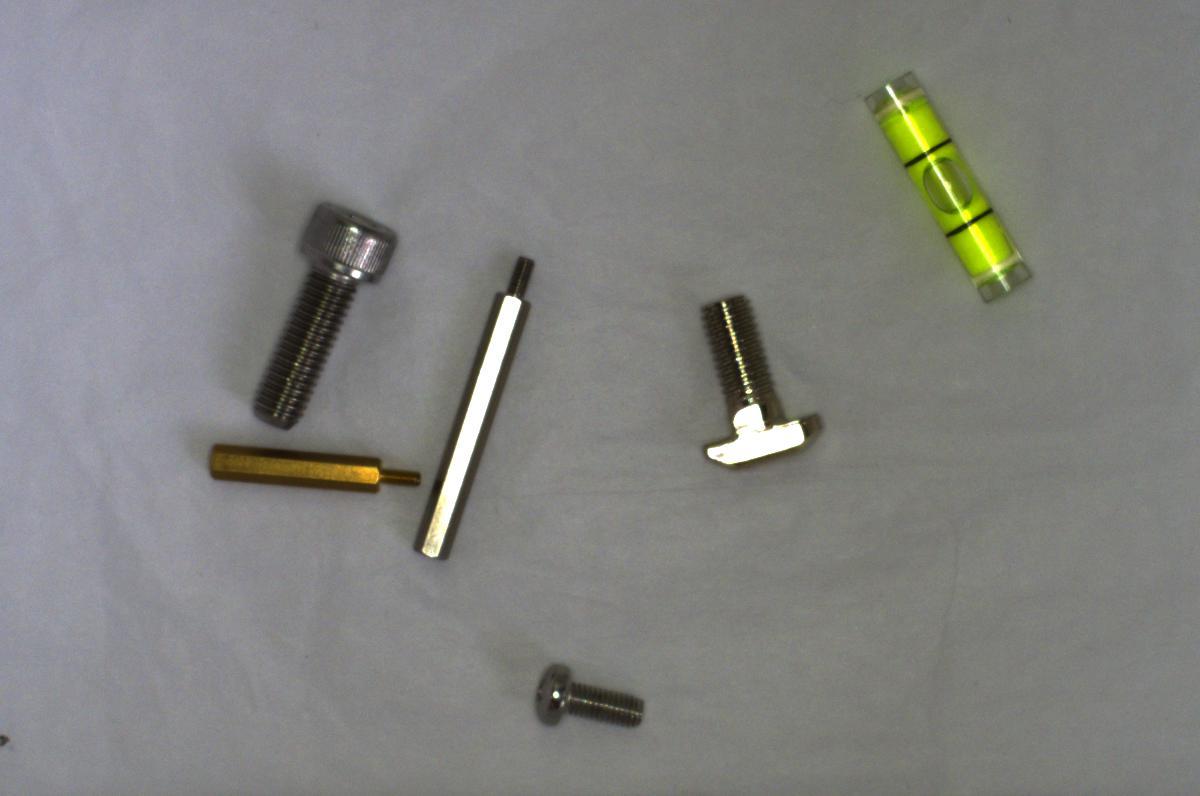Hexagon pillar: (198, 434, 421, 499)
Hexagon screw: (245, 199, 400, 432)
Hexagonal steel column: (407, 249, 547, 572)
Horizontal bubble: (867, 65, 1038, 306)
Round head screw: (527, 655, 648, 730)
T-shaped screw: (681, 280, 827, 472)
